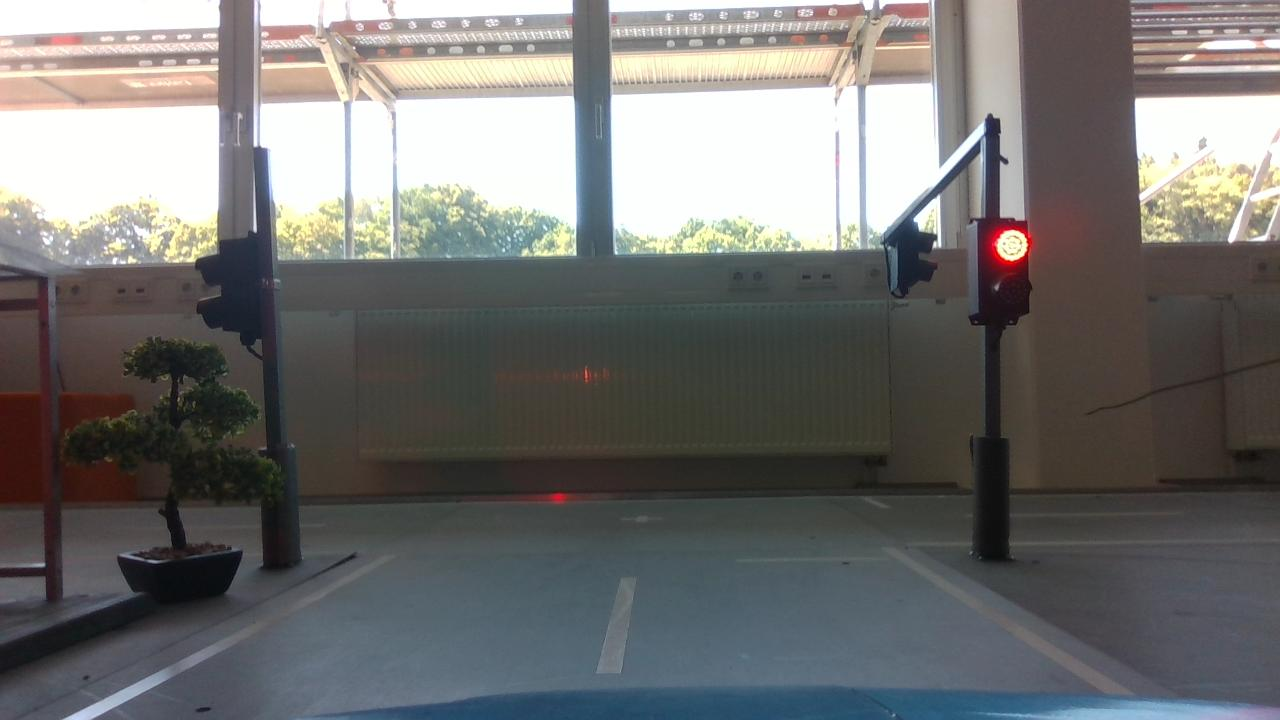traffic_light_red: (956, 202, 1057, 346)
